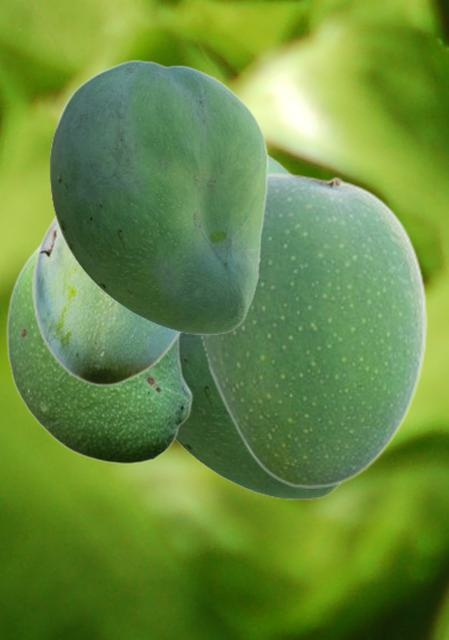green_mango: (197, 172, 427, 487), (49, 60, 267, 334), (6, 240, 192, 464), (175, 334, 342, 499), (31, 215, 182, 385)
